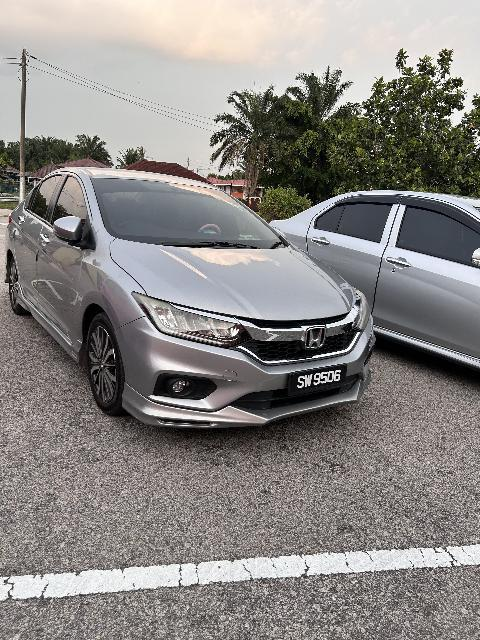License_Plate: (288, 365, 350, 399)
SW9506: (288, 365, 350, 399)
car: (10, 157, 379, 438), (270, 180, 480, 386)
